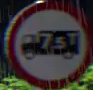Heavy Vehicles: (5, 0, 91, 89)
